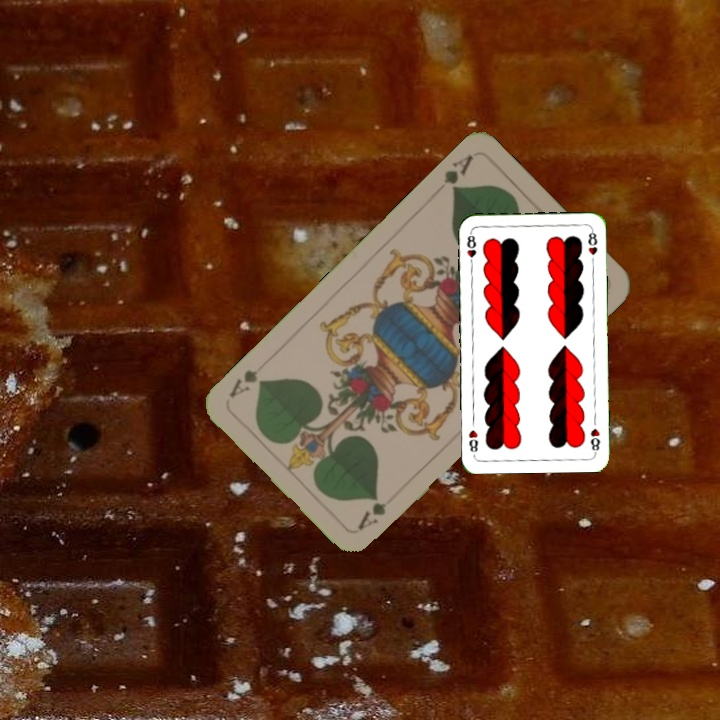GA: (353, 489, 401, 532), (439, 150, 476, 197)
H8: (463, 228, 478, 269), (586, 424, 603, 456)
